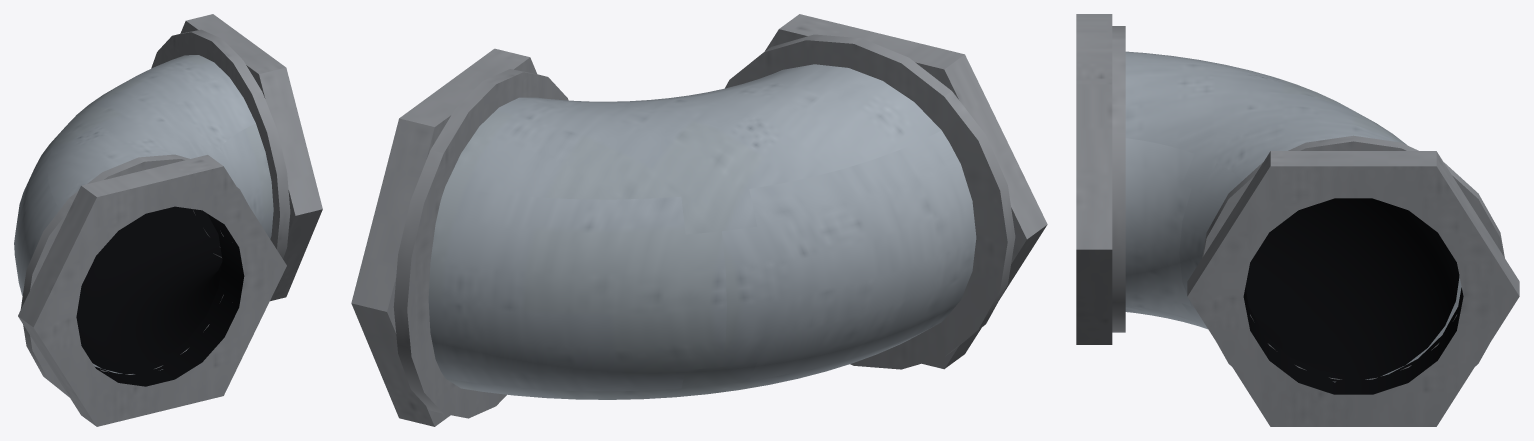
File: small_pipe_bend.glb
The picture shows the model from 3 angles, left to right: view 1: azimuth 30°, elevation 25°; view 2: azimuth 150°, elevation 25°; view 3: azimuth 270°, elevation 25°; orthographic projection. The views are drawn at different scales.
Parts seen in each view (by area): view 1: Body.002; view 2: Body.002; view 3: Body.002.
Boxes of the visible parts, box(x1,y1,x2,y2) form: Body.002: box(14, 14, 322, 426); Body.002: box(351, 14, 1047, 426); Body.002: box(1076, 14, 1519, 426).
Bounding box in the file's own units: 0.1975 × 0.1376 × 0.1975.
3 materials, 2 textured.
